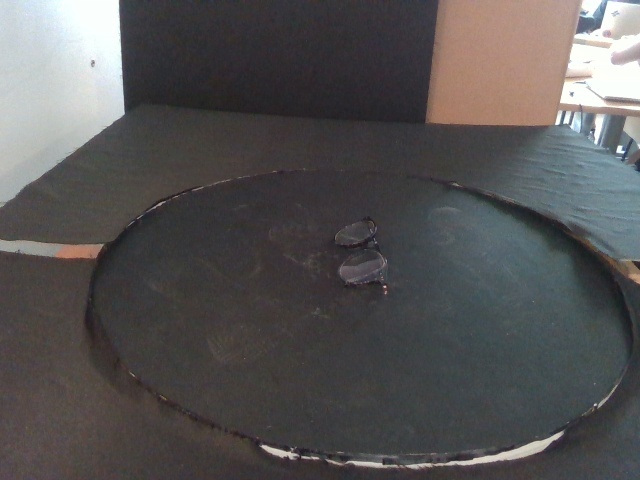glasses: (332, 215, 390, 298)
